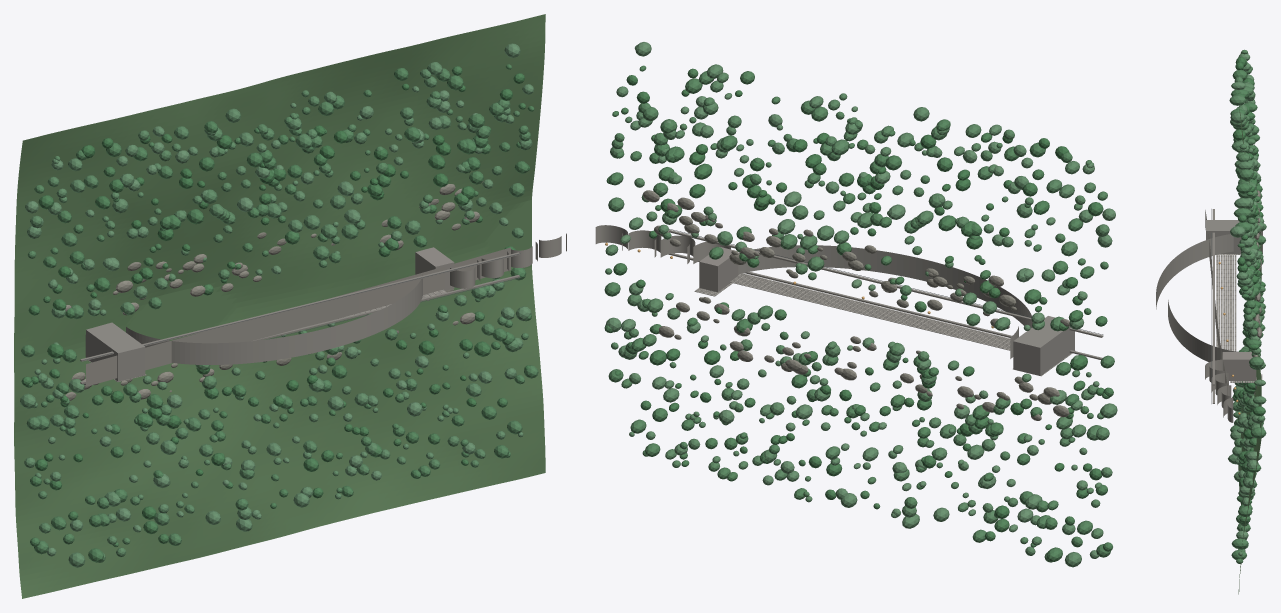
The model's file is tas_kemerli_tarihi_viyaduk.glb.
3 views of the same model, side by side, from view 1: azimuth 30°, elevation 25°; view 2: azimuth 150°, elevation 25°; view 3: azimuth 270°, elevation 25° (orthographic). The views are drawn at different scales.
Parts seen in each view (by area): view 1: Green_valley_hills, Stone_railway_deck, Great_stone_arch, Massive_left_abutment, Stone_parapet_1, Arch_right_pier, Stone_parapet_-1; view 2: Great_stone_arch, Massive_left_abutment, Arch_right_pier, Stone_parapet_-1, Stone_parapet_1; view 3: Great_stone_arch, Arch_right_pier, Green_valley_hills, Massive_left_abutment, Stone_parapet_1, Stone_railway_deck, Approach_arch_0, Approach_arch_1, Approach_arch_2, Approach_arch_3.
Part boxes in pixels (x1,y1,x2,y2): Green_valley_hills: (14, 14, 545, 598); Stone_railway_deck: (86, 247, 510, 386); Great_stone_arch: (126, 274, 422, 364); Massive_left_abutment: (85, 322, 145, 381); Stone_parapet_1: (80, 252, 519, 361); Arch_right_pier: (415, 247, 454, 290); Stone_parapet_-1: (80, 275, 519, 384); Great_stone_arch: (738, 245, 1032, 358); Massive_left_abutment: (1013, 316, 1074, 375); Arch_right_pier: (699, 247, 738, 292); Stone_parapet_-1: (668, 253, 1102, 359); Stone_parapet_1: (669, 229, 1103, 337); Great_stone_arch: (1156, 234, 1237, 361); Arch_right_pier: (1222, 352, 1256, 380); Green_valley_hills: (1238, 106, 1261, 594); Massive_left_abutment: (1206, 220, 1262, 254); Stone_parapet_1: (1212, 209, 1214, 385); Stone_railway_deck: (1205, 210, 1227, 395); Approach_arch_0: (1205, 359, 1226, 382); Approach_arch_1: (1211, 373, 1228, 394); Approach_arch_2: (1217, 385, 1231, 407); Approach_arch_3: (1223, 398, 1233, 422).
Size of the model in its own units: 258 by 210 by 56.11.
